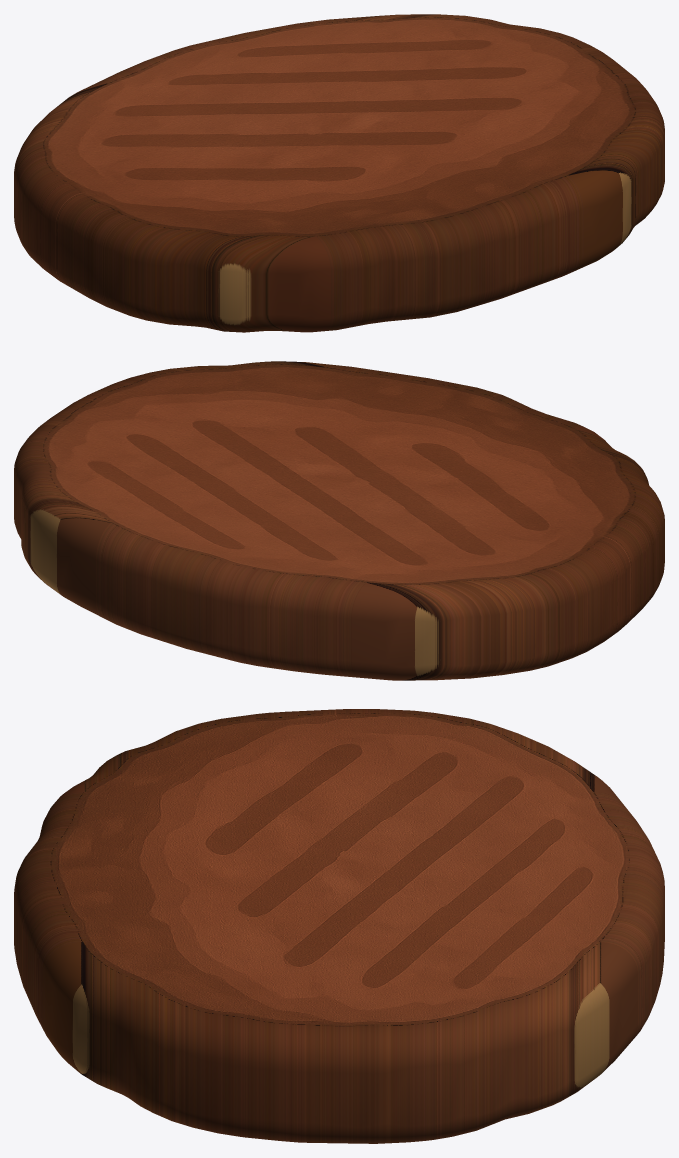
The model's file is burger.glb.
3 renders of one model, top to bottom at view 1: azimuth 30°, elevation 25°; view 2: azimuth 150°, elevation 25°; view 3: azimuth 270°, elevation 25°, orthographic. The views are drawn at different scales.
Parts seen in each view (by area): view 1: OuterCurve; view 2: OuterCurve; view 3: OuterCurve.
Part boxes in pixels (x1,y1,x2,y2): OuterCurve: (14,14,664,332); OuterCurve: (14,361,664,680); OuterCurve: (14,709,664,1143).
Size of the model in its own units: 8.8 by 1.35 by 7.02.
Materials: 1 (1 with a texture image).
